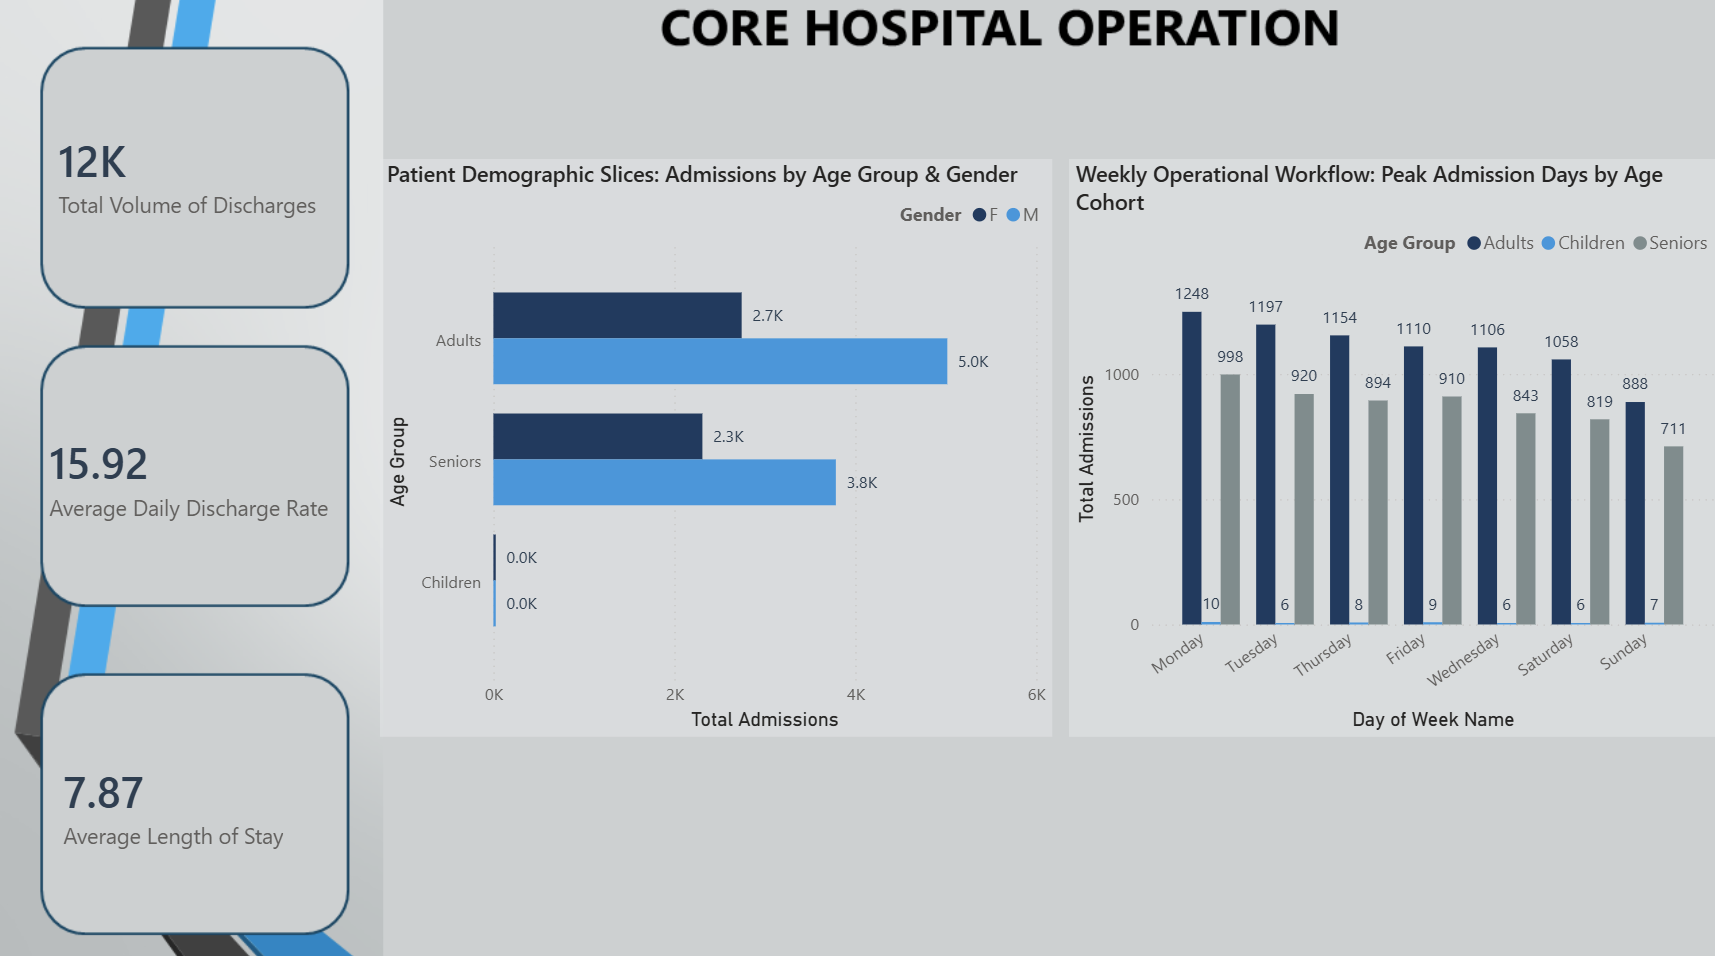

Layout of this report page (visuals, bound fields, positions):
{"tool":"powerbi","page":{"name":"Core Hospital Operations","canvas":[1280,720],"ordinal":0},"visuals":[{"type":"cardVisual","fields":{"Data":["v_HospitalAdmission.Total Volume of Discharges"]},"box":[19.2,43.9,267.6,181.1],"z":0},{"type":"cardVisual","fields":{"Data":["v_HospitalAdmission.Average Daily Discharge Rate"]},"box":[12.3,271.7,274.4,174.3],"z":1000},{"type":"cardVisual","fields":{"Data":["v_HospitalAdmission.ALOS"]},"box":[23.3,513.2,252.5,177],"z":2000},{"type":"clusteredBarChart","title":"Patient Demographic Slices: Admissions by Age Group & Gender","fields":{"Category":["v_HospitalAdmission.Age Group"],"Y":["v_HospitalAdmission.Total Admissions"],"Series":["v_HospitalAdmission.Gender"]},"box":[286.8,123.5,498.1,428.1],"z":3000},{"type":"clusteredColumnChart","title":"Weekly Operational Workflow: Peak Admission Days by Age Cohort","fields":{"Category":["v_HospitalAdmission.Day of Week Name"],"Y":["v_HospitalAdmission.Total Admissions"],"Series":["v_HospitalAdmission.Age Group"]},"box":[797.3,123.5,483,428.1],"z":4000}]}

Visuals, with their boxes in screenshot pixels (x1, y1, x2, y2), scaled from the page's 1280x720 canvas onto the 1715x956 screenshot:
cardVisual - v_HospitalAdmission.Total Volume of Discharges: bbox(26, 58, 384, 299)
cardVisual - v_HospitalAdmission.Average Daily Discharge Rate: bbox(16, 361, 384, 592)
cardVisual - v_HospitalAdmission.ALOS: bbox(31, 681, 370, 916)
"Patient Demographic Slices: Admissions by Age Group & Gender" clusteredBarChart: bbox(384, 164, 1052, 732)
"Weekly Operational Workflow: Peak Admission Days by Age Cohort" clusteredColumnChart: bbox(1068, 164, 1714, 732)
